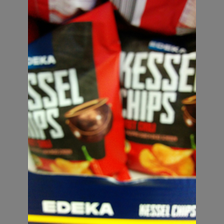chips: (29, 10, 123, 171), (111, 8, 195, 178)
